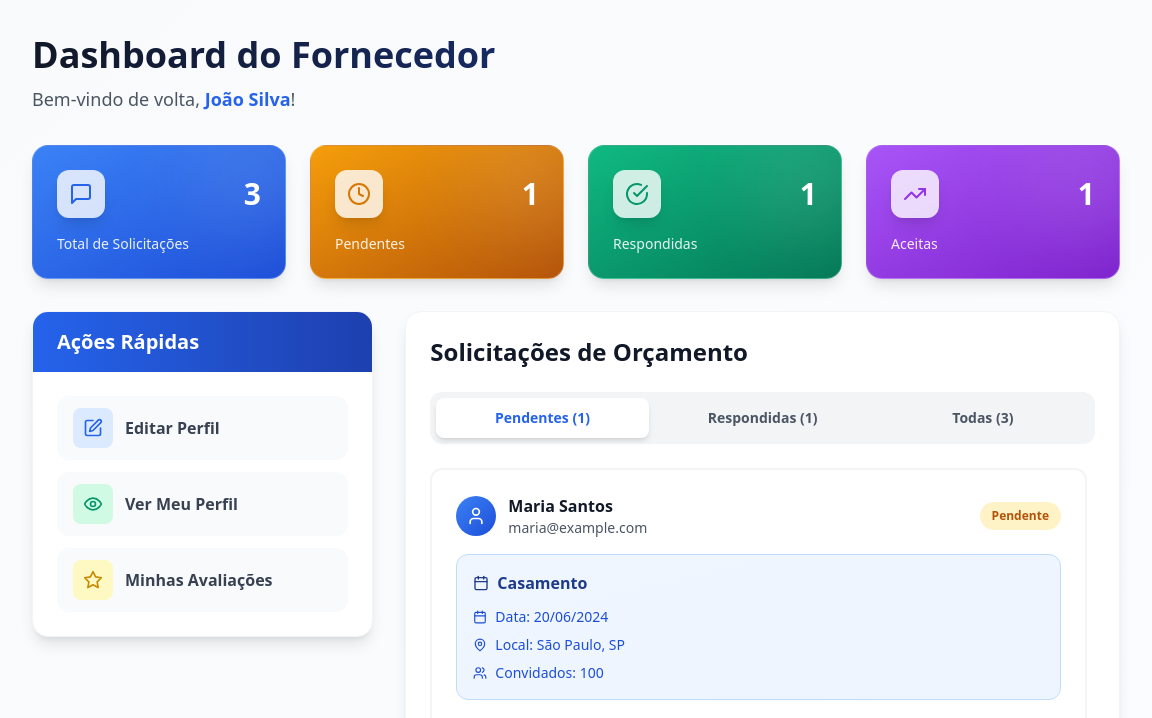
Test: SupplierDashboard › Filtering › should filter by responded quotes when tab is clicked
Expected: the text "Maria Santos" is shown, [508,495,613,517]
Click the button "Respondidas (1)": (763, 418) [656,398,869,438]
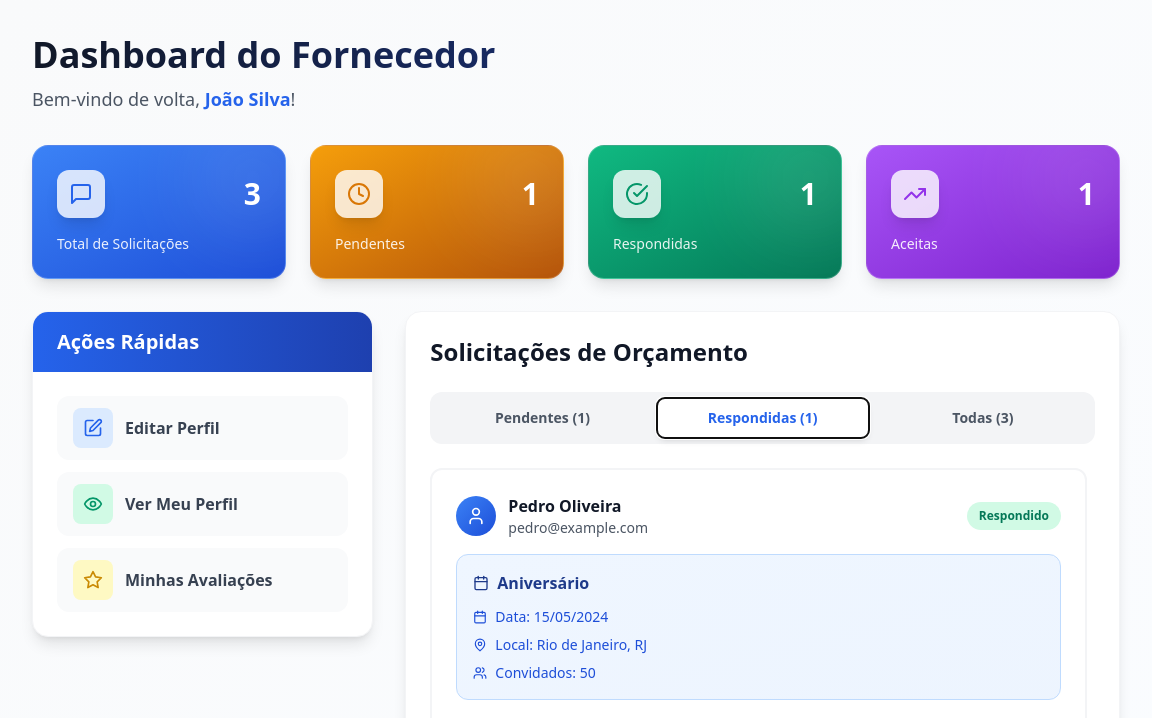
Expected: the text "Maria Santos" is gone
Expected: the text "Pedro Oliveira" is shown, [508,495,622,517]
